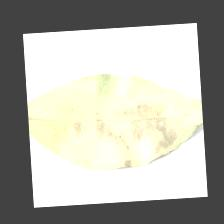black spot: (69, 96, 178, 154)
